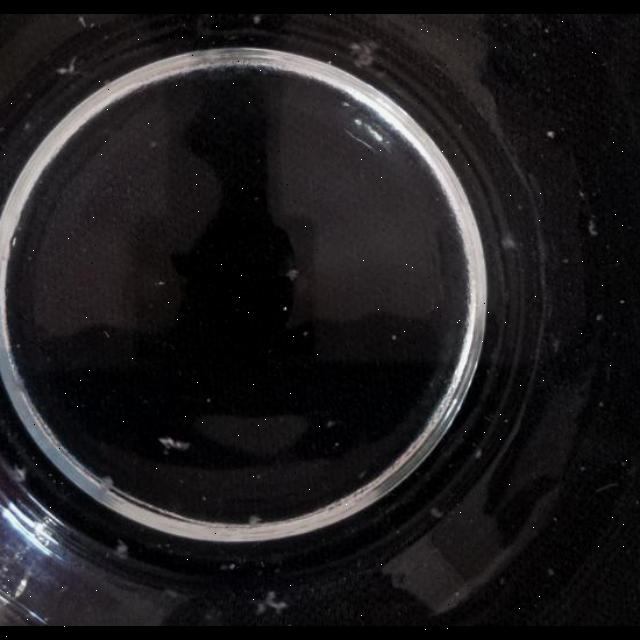Fibre: (343, 118, 387, 156), (253, 590, 289, 618), (159, 434, 193, 452), (349, 41, 375, 64), (56, 56, 78, 76), (12, 576, 28, 600), (98, 475, 116, 495), (594, 482, 620, 494), (113, 543, 129, 559), (286, 268, 298, 282), (588, 222, 598, 238), (248, 515, 262, 525), (158, 438, 172, 448), (473, 449, 482, 461), (326, 420, 336, 430), (156, 280, 166, 288)
